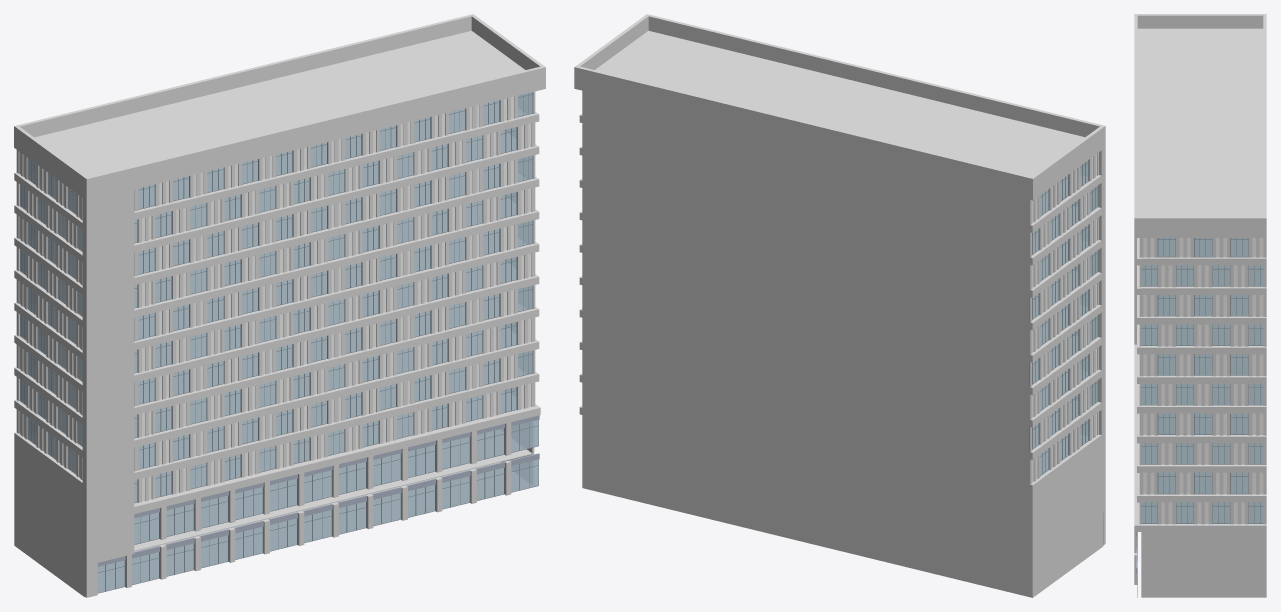
File: building3.gltf
The picture shows the model from 3 angles, left to right: view 1: azimuth 30°, elevation 25°; view 2: azimuth 150°, elevation 25°; view 3: azimuth 270°, elevation 25°; orthographic projection. The views are drawn at different scales.
Parts seen in each view (by area): view 1: 办公楼05; view 2: 办公楼05; view 3: 办公楼05.
Part boxes in pixels (x1,y1,x2,y2): 办公楼05: (14, 14, 545, 597); 办公楼05: (574, 14, 1105, 597); 办公楼05: (1134, 14, 1266, 597).
Bounding box in the file's own units: 53.25 × 46.5 × 14.6.
